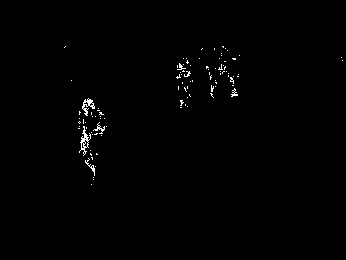person: (76, 98, 108, 179)
